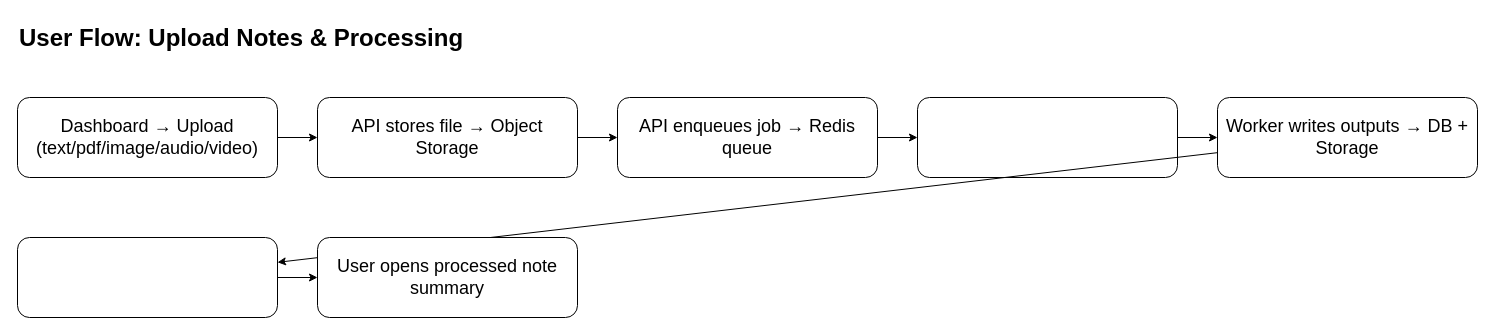
Image size: 1495x335. Some labels were removed from this diagram. Each missing label, with the centre of its shape:
Notification to user (WS/Email): pixel 147 277
Worker runs OCR/ASR/Summarisation: pixel 1047 137
